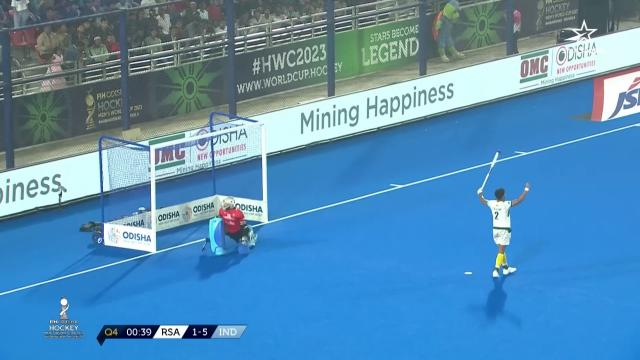ball: (456, 266, 479, 283)
